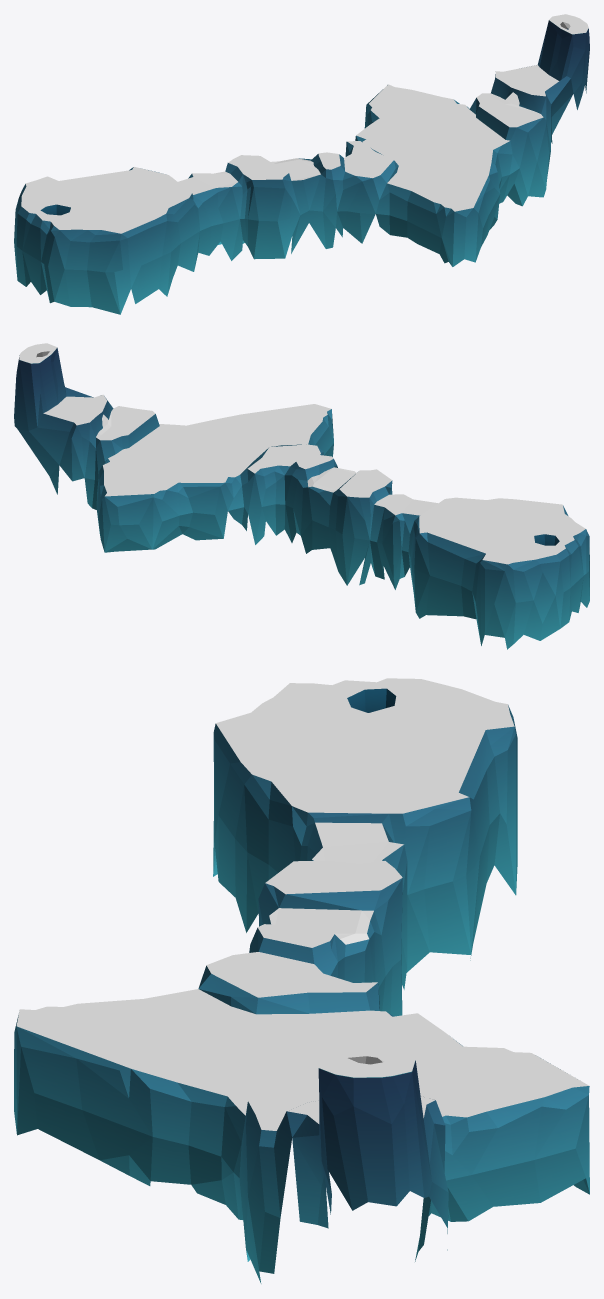
Rendered from MOD_Level1_Versie2.fbx.
3 views of the same model, one above another, from view 1: azimuth 30°, elevation 25°; view 2: azimuth 150°, elevation 25°; view 3: azimuth 270°, elevation 25° (orthographic). The views are drawn at different scales.
Parts seen in each view (by area): view 1: MOD_Level1_Walls, MOD_Level1_Floor, polySurface32; view 2: MOD_Level1_Walls, MOD_Level1_Floor; view 3: MOD_Level1_Walls, MOD_Level1_Floor, polySurface1.
Boxes of the visible parts, x1,y1,x2,y2 form: MOD_Level1_Walls: (14,20,589,314); MOD_Level1_Floor: (21,14,588,233); polySurface32: (220,219,239,260); MOD_Level1_Walls: (14,347,589,649); MOD_Level1_Floor: (19,343,585,564); MOD_Level1_Walls: (14,705,589,1283); MOD_Level1_Floor: (16,678,589,1130); polySurface1: (347,688,396,712).
Bounding box in the file's own units: 20.33 × 5.2 × 9.4.
3 materials, 2 textured.
